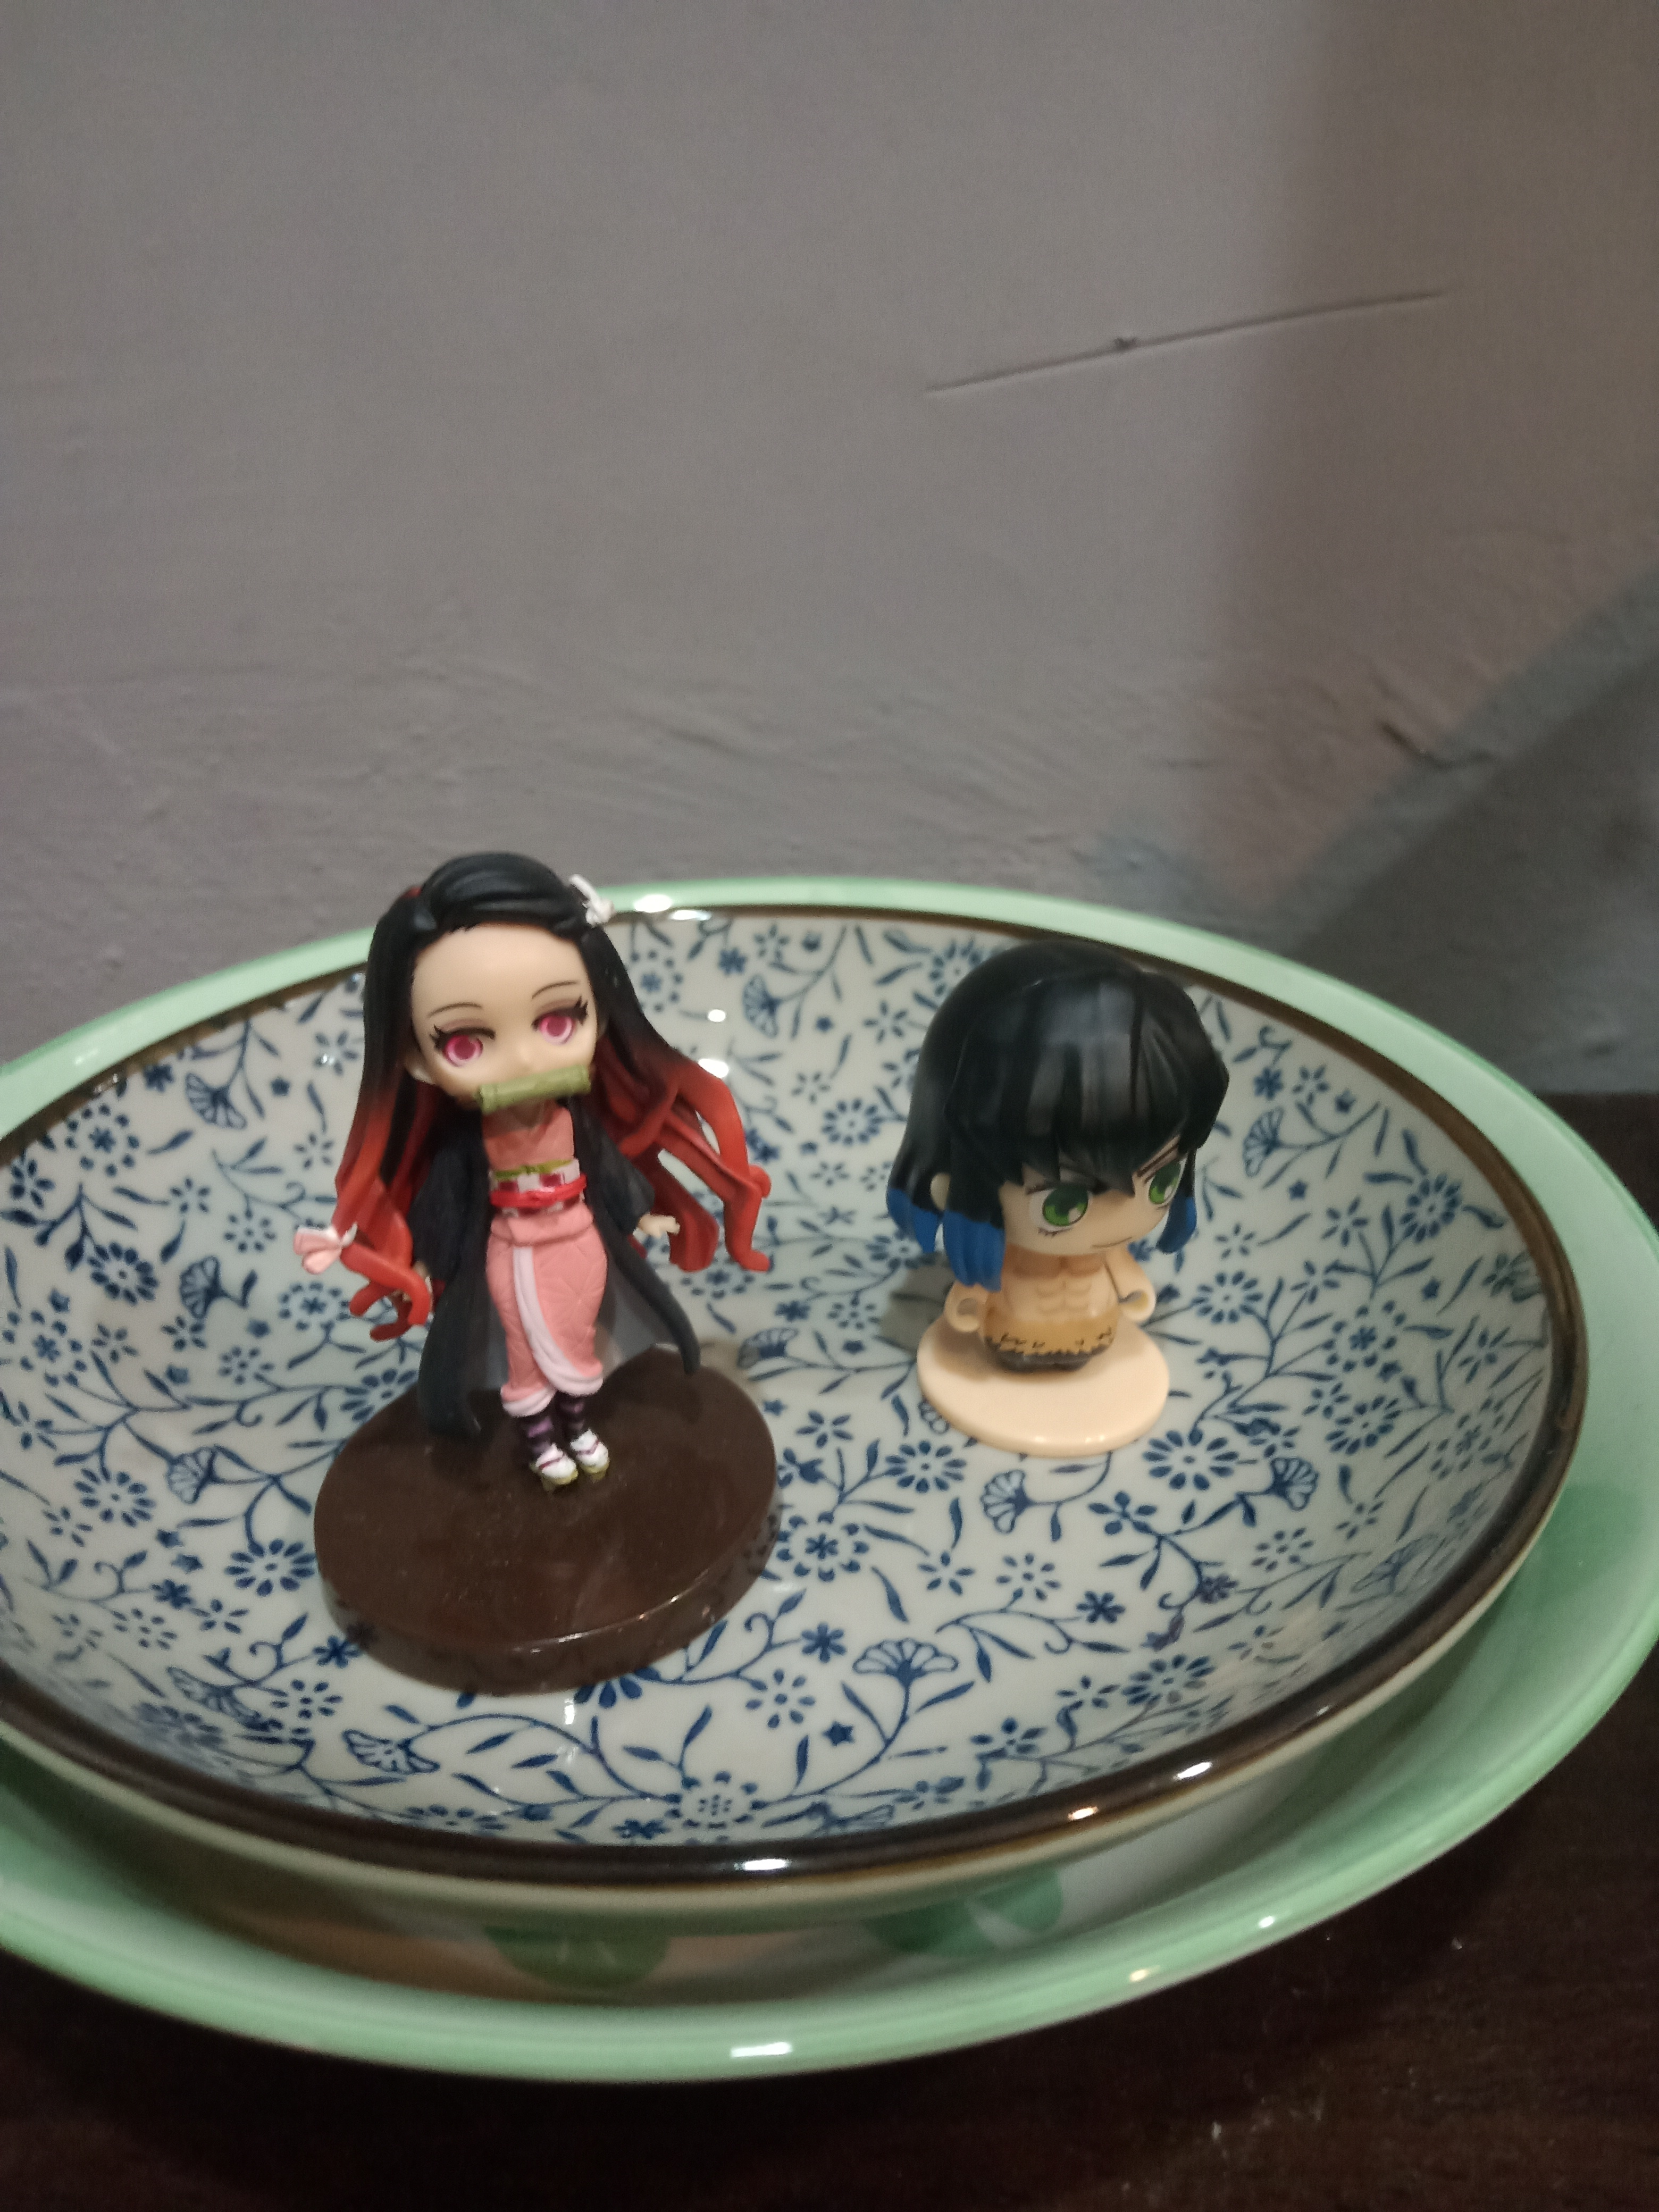Inosuke: (870, 935, 1253, 1468)
Nezuko: (284, 833, 802, 1703)
